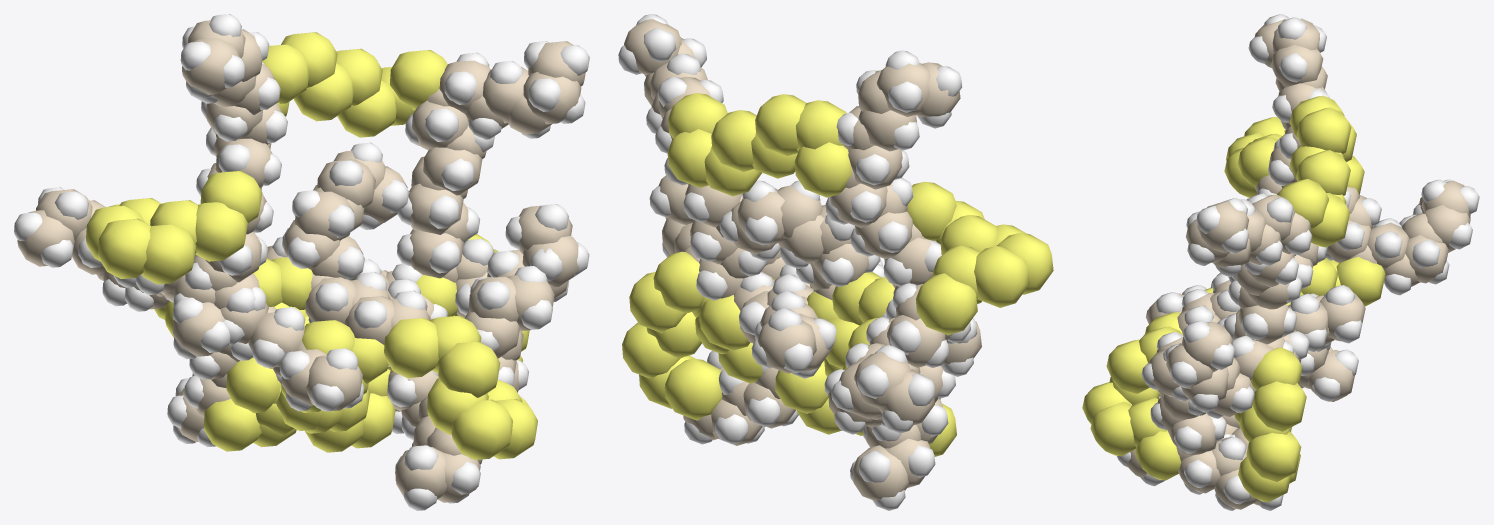
File: Elastomer_Sphere.glb
3 renders of one model, left to right at view 1: azimuth 30°, elevation 25°; view 2: azimuth 150°, elevation 25°; view 3: azimuth 270°, elevation 25°, orthographic. The views are drawn at different scales.
Parts seen in each view (by area): view 1: VSph018, VSph061, VSph138, VSph162, VSph137, VSph161, VSph077, VSph170, VSph164, VSph037, VSph032, VSph149 (+89 smaller); view 2: VSph038, VSph013, VSph163, VSph031, VSph136, VSph140, VSph076, VSph032, VSph141, VSph058, VSph154, VSph057 (+82 smaller); view 3: VSph154, VSph057, VSph136, VSph155, VSph076, VSph014, VSph048, VSph138, VSph077, VSph140, VSph141, VSph128 (+69 smaller).
Boxes of the visible parts, x1,y1,x2,y2 form: VSph018: (451,399,512,459); VSph061: (384,318,438,378); VSph138: (438,341,500,397); VSph162: (98,218,150,279); VSph137: (195,202,247,261); VSph161: (141,224,196,284); VSph077: (390,50,447,110); VSph170: (203,399,261,451); VSph164: (226,357,281,412); VSph037: (294,63,353,121); VSph032: (200,170,262,223); VSph149: (337,80,396,137); VSph038: (916,273,977,335); VSph013: (664,358,722,420); VSph163: (974,246,1029,307); VSph031: (794,142,851,197); VSph136: (755,94,806,155); VSph140: (653,251,704,313); VSph076: (711,110,756,171); VSph032: (907,181,956,240); VSph141: (667,129,711,187); VSph058: (699,295,750,350); VSph154: (622,322,682,378); VSph057: (629,271,686,333); VSph154: (1246,431,1301,481); VSph057: (1252,381,1306,431); VSph136: (1296,107,1351,154); VSph155: (1090,401,1135,456); VSph076: (1296,150,1350,195); VSph014: (1135,431,1181,480); VSph048: (1336,256,1385,306); VSph138: (1106,339,1149,393); VSph077: (1277,179,1328,230); VSph140: (1251,347,1302,390); VSph141: (1310,193,1349,247); VSph128: (1197,201,1248,252).
Size of the model in its own units: 0.928 by 0.9039 by 0.8073.
